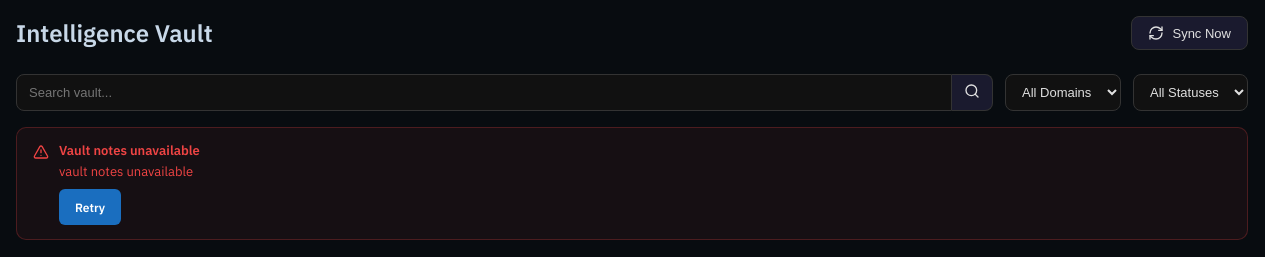
Vault view async data › shows an error state on failure and refetches on retry
Expected: the text "vault notes unavailable" is shown, x1=59 y1=163 x2=193 y2=180
Click the button "Retry".
click(90, 207)  # box x1=59 y1=189 x2=121 y2=225
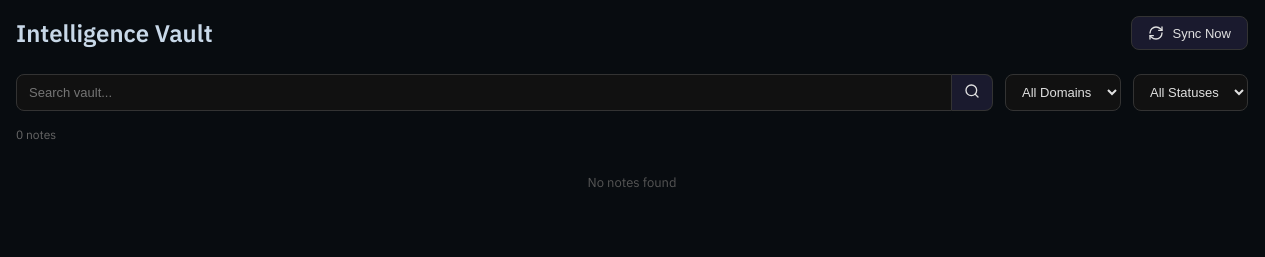
Expected: the text "Vault notes unavailable" is gone
